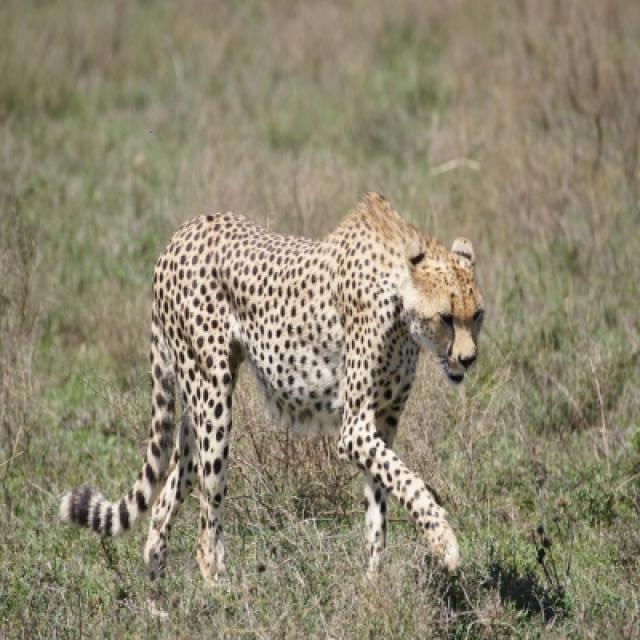Cheetah: (59, 194, 488, 584)
